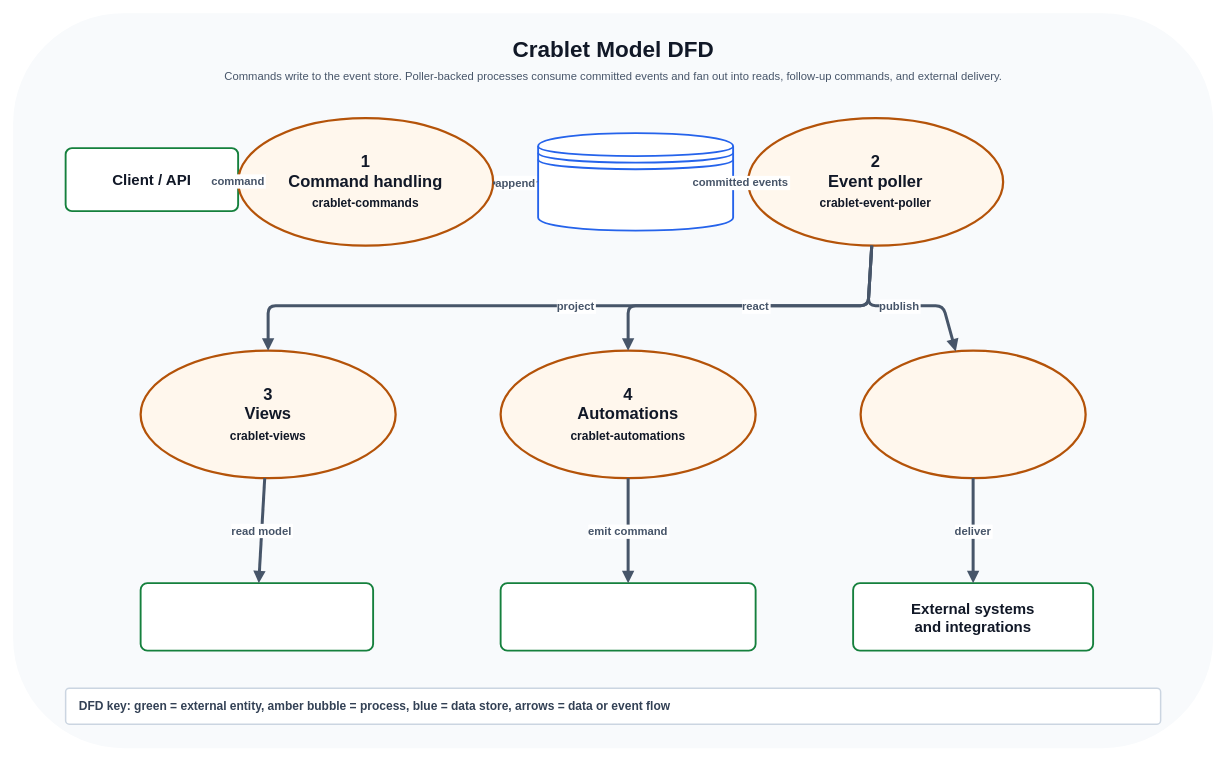
This 1226x761 diagram has some shape labels left out. Here are the shapes that lost their labels. From the top down, the box of each, then its label:
(537, 132, 734, 231): Event store crablet-eventstore
(859, 349, 1086, 479): 5 Outbox crablet-outbox
(139, 582, 374, 651): Query APIs / UI
(499, 582, 756, 651): Internal follow-up commands
